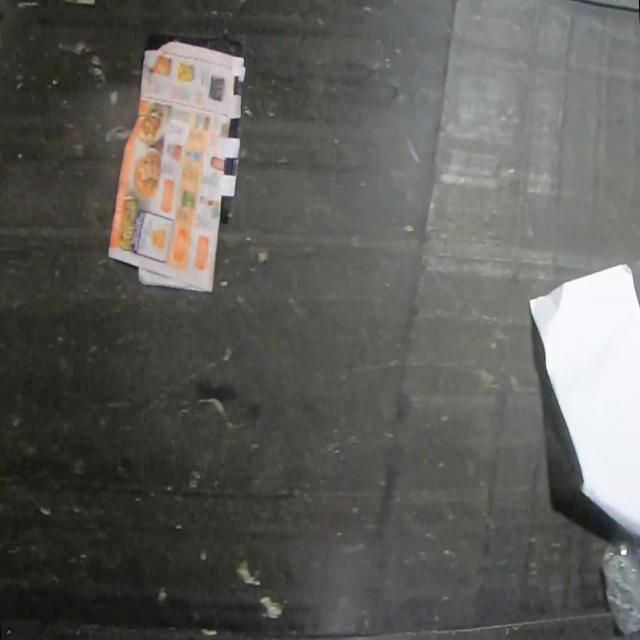rigid_plastic: (600, 525, 640, 636)
